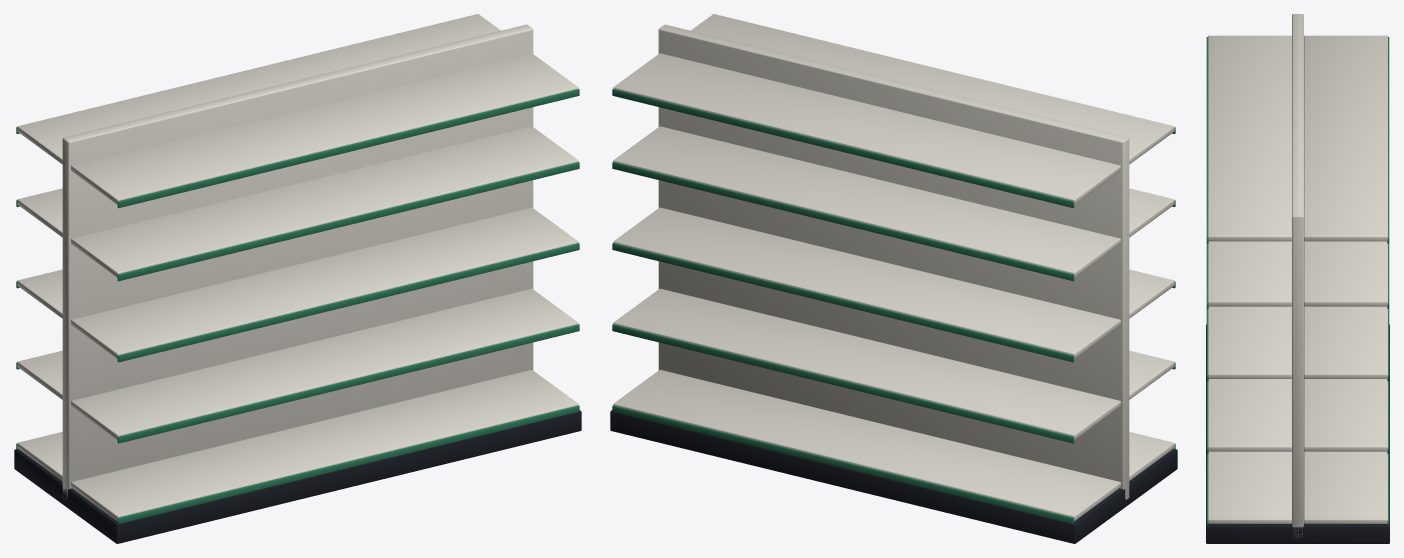
File: market-shelf-e34834942882.glb
3 renders of one model, left to right at view 1: azimuth 30°, elevation 25°; view 2: azimuth 150°, elevation 25°; view 3: azimuth 270°, elevation 25°, orthographic. The views are drawn at different scales.
Visible parts, largest first — view 1: Mesh_Shelf_Cream, Mesh_Echo_Mart_Green, Plinth; view 2: Mesh_Shelf_Cream, Mesh_Echo_Mart_Green, Plinth; view 3: Mesh_Shelf_Cream, Plinth, Mesh_Echo_Mart_Green.
Part boxes in pixels (x1,y1,x2,y2): Mesh_Shelf_Cream: (17, 14, 578, 520); Mesh_Echo_Mart_Green: (16, 89, 579, 523); Plinth: (14, 410, 581, 543); Mesh_Shelf_Cream: (613, 14, 1174, 520); Mesh_Echo_Mart_Green: (612, 89, 1175, 523); Plinth: (610, 410, 1177, 543); Mesh_Shelf_Cream: (1208, 14, 1387, 537); Plinth: (1206, 324, 1389, 543); Mesh_Echo_Mart_Green: (1206, 37, 1389, 525).
Size of the model in its own units: 2.4 by 1.81 by 0.92.
